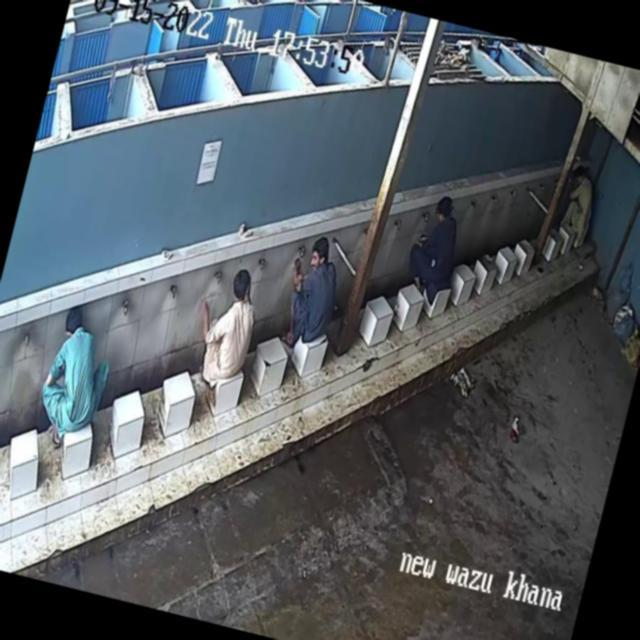person: (32, 304, 123, 448), (192, 258, 270, 391), (274, 233, 350, 354), (402, 190, 468, 299), (554, 160, 606, 249)
